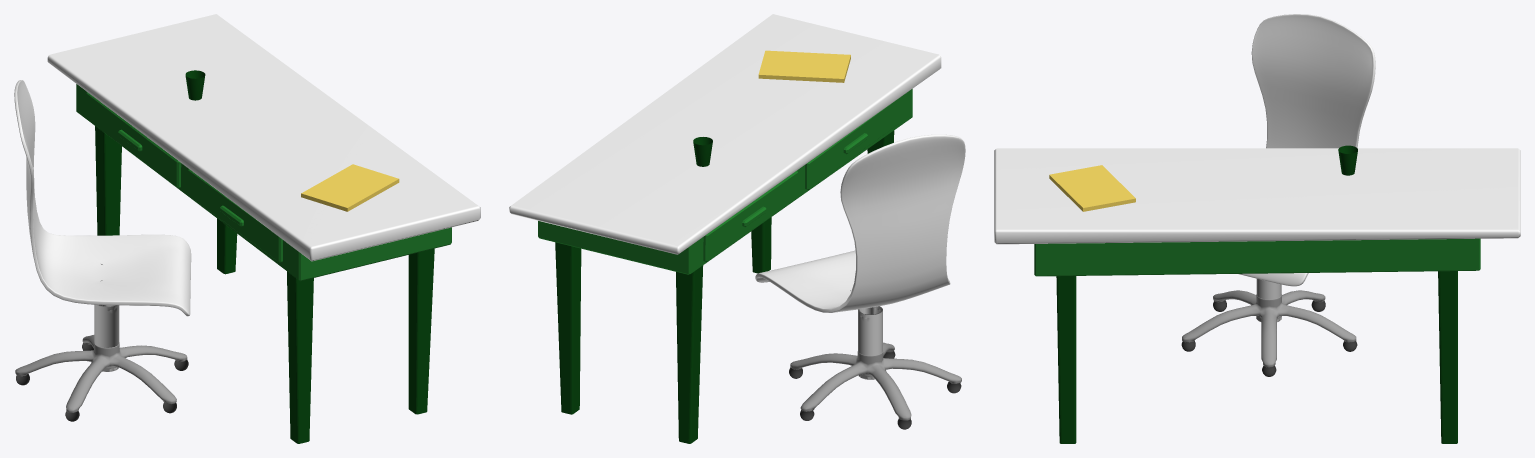
File: zhouci.fbx
3 views of the same model, side by side, from view 1: azimuth 30°, elevation 25°; view 2: azimuth 150°, elevation 25°; view 3: azimuth 270°, elevation 25° (orthographic).
Parts seen in each view (by area): view 1: polySurface75; view 2: polySurface75; view 3: polySurface75.
Boxes of the visible parts, box(x1,y1,x2,y2) form: polySurface75: box(14, 14, 480, 443); polySurface75: box(509, 14, 965, 443); polySurface75: box(994, 14, 1520, 443).
Bounding box in the file's own units: 171 × 147 × 240.
